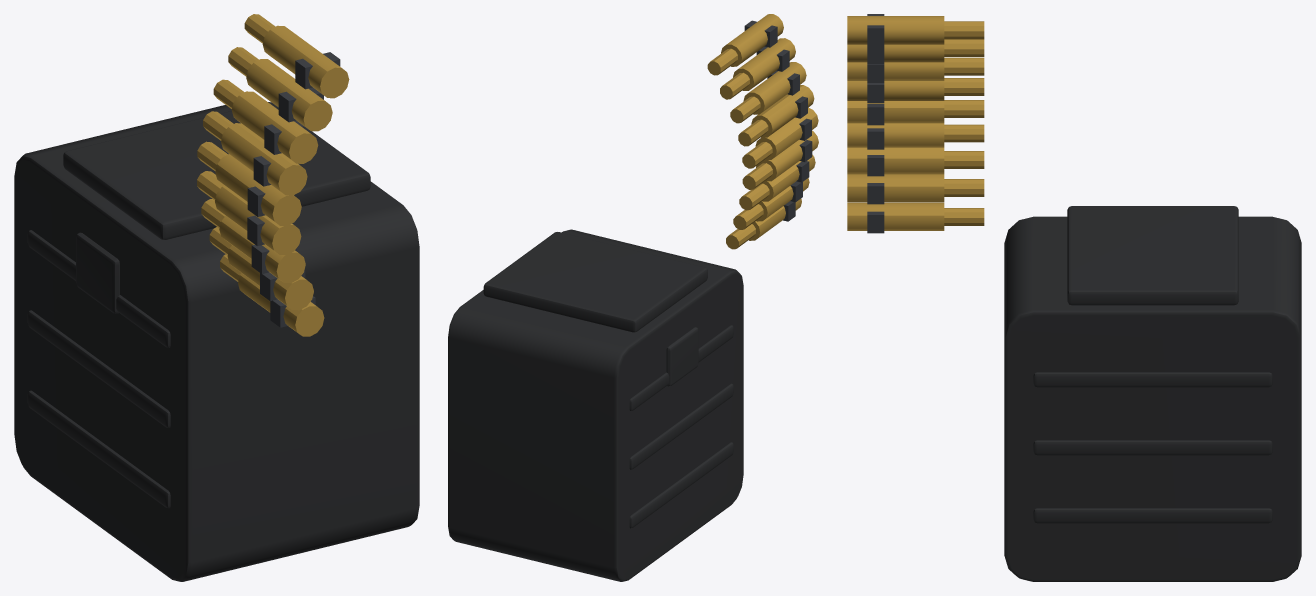
File: mod_rampart_box_100.glb
3 renders of one model, left to right at view 1: azimuth 30°, elevation 25°; view 2: azimuth 150°, elevation 25°; view 3: azimuth 270°, elevation 25°, orthographic. The views are drawn at different scales.
Parts seen in each view (by area): view 1: AmmoBox, AmmoBoxBelt; view 2: AmmoBox, AmmoBoxBelt; view 3: AmmoBox, AmmoBoxBelt.
Part boxes in pixels (x1=…): AmmoBox: x1=14, y1=102, x2=419, y2=581; AmmoBoxBelt: x1=197, y1=14, x2=349, y2=336; AmmoBox: x1=448, y1=229, x2=743, y2=581; AmmoBoxBelt: x1=707, y1=14, x2=818, y2=249; AmmoBox: x1=1004, y1=206, x2=1301, y2=581; AmmoBoxBelt: x1=847, y1=14, x2=984, y2=233.
Size of the model in its own units: 0.0851 by 0.19 by 0.159.
